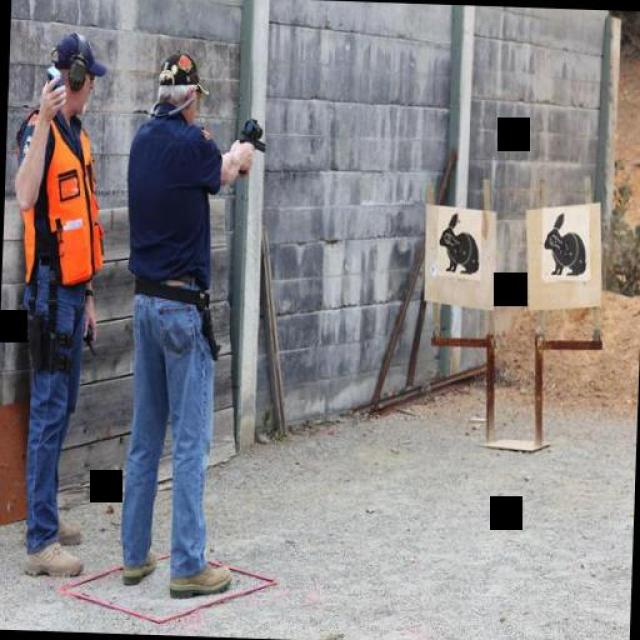gun: (228, 106, 270, 165)
